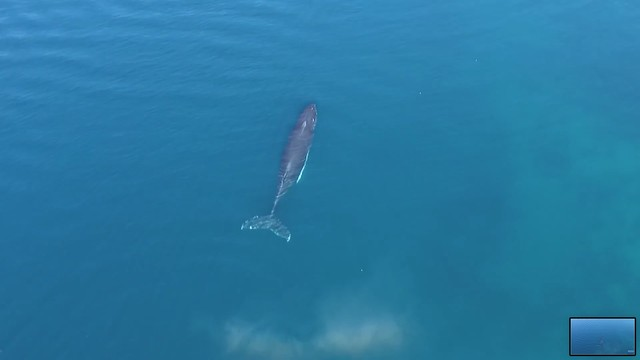whale: (227, 98, 325, 251)
